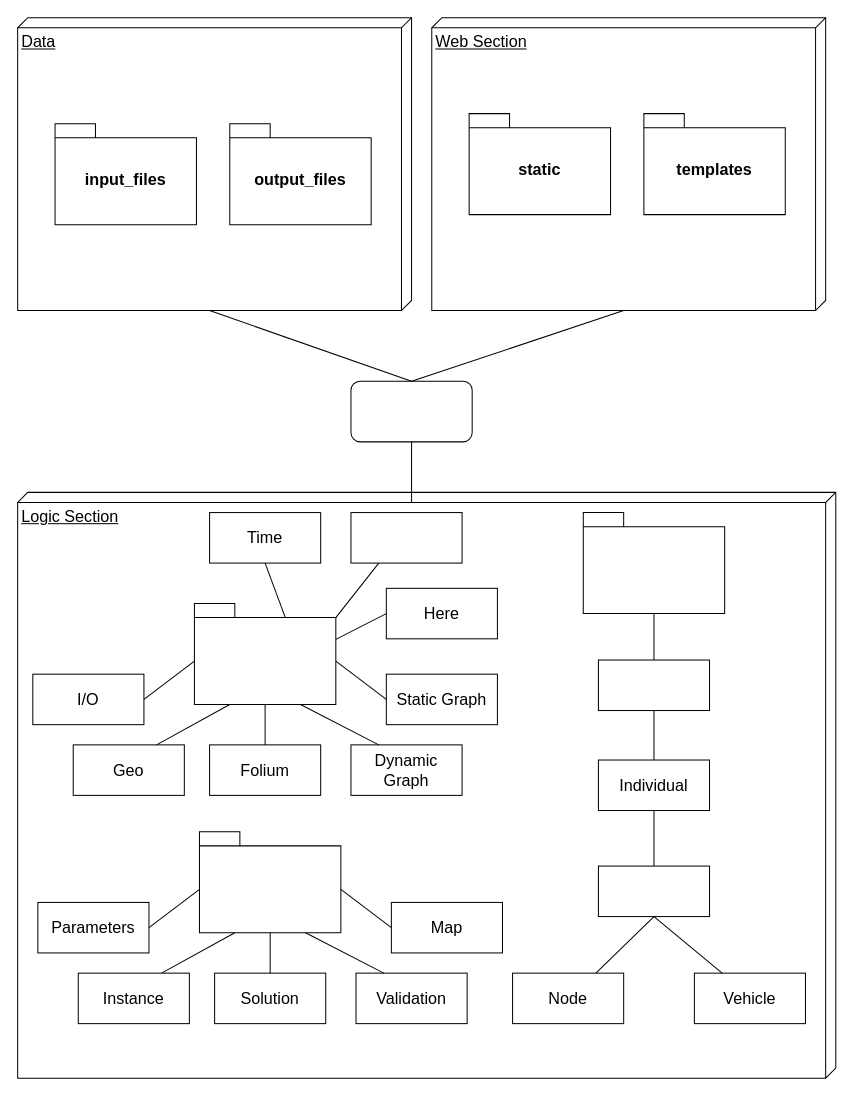
This 853x1096 diagram has some shape labels left out. The shapes that lost their labels are listed below. From the top down, each one's centre as x and y in pixels, then its label:
At (411,411): "App".
At (406,537): "Polygon".
At (653,563): "model".
At (264,653): "utils".
At (653,685): "Population".
At (269,882): "algorithm".
At (653,891): "Route".
